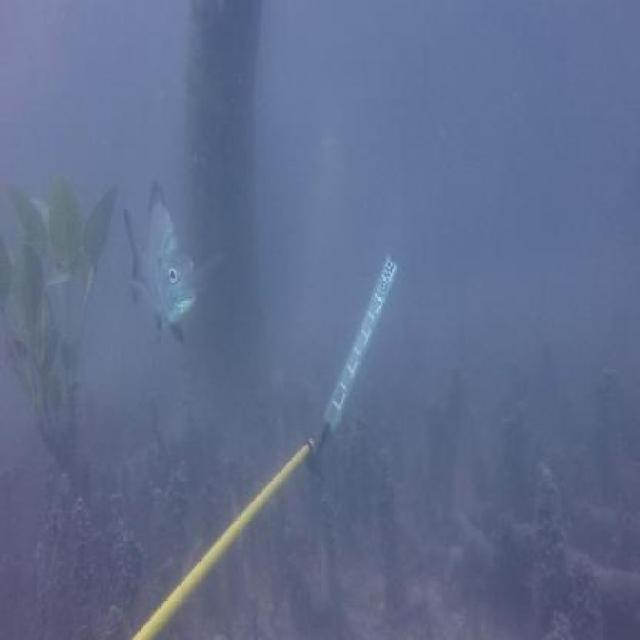acanthopagrus_palmaris: (119, 172, 207, 351)
